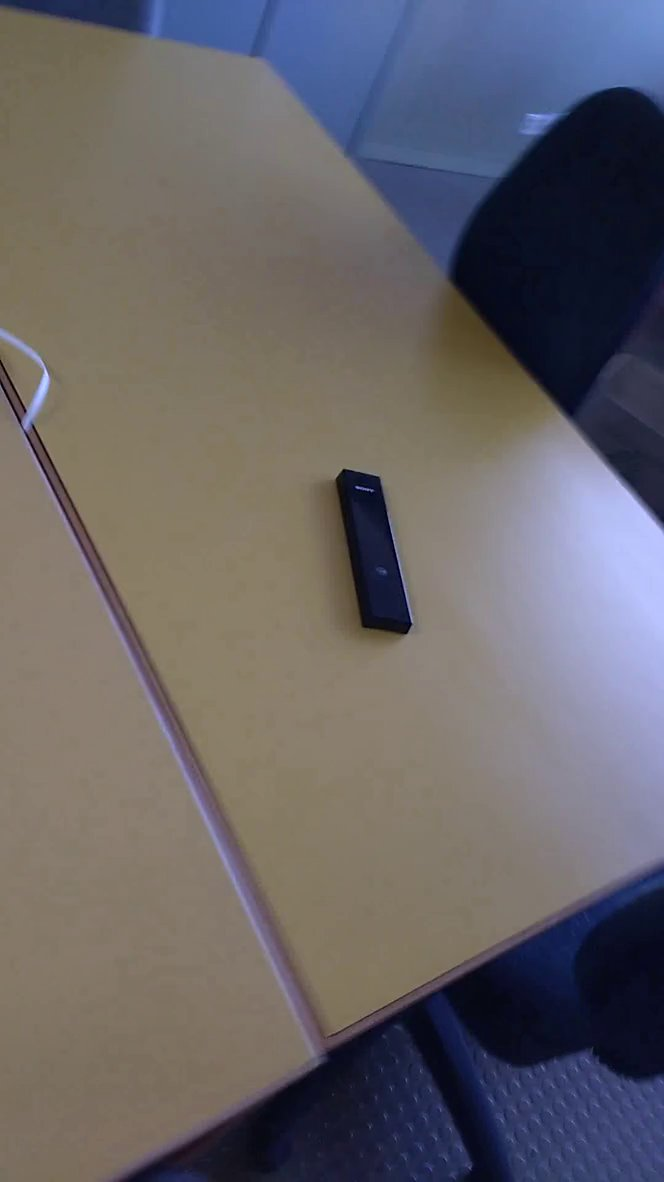remote: (307, 462, 426, 655)
